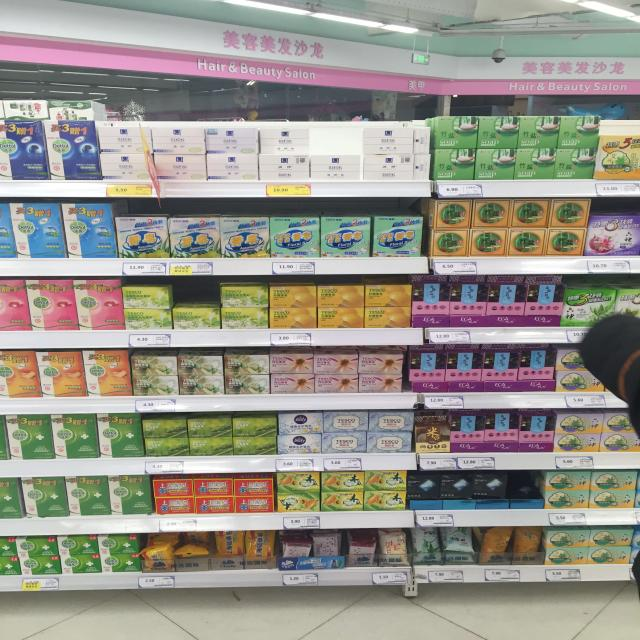empty: (503, 469, 551, 501)
